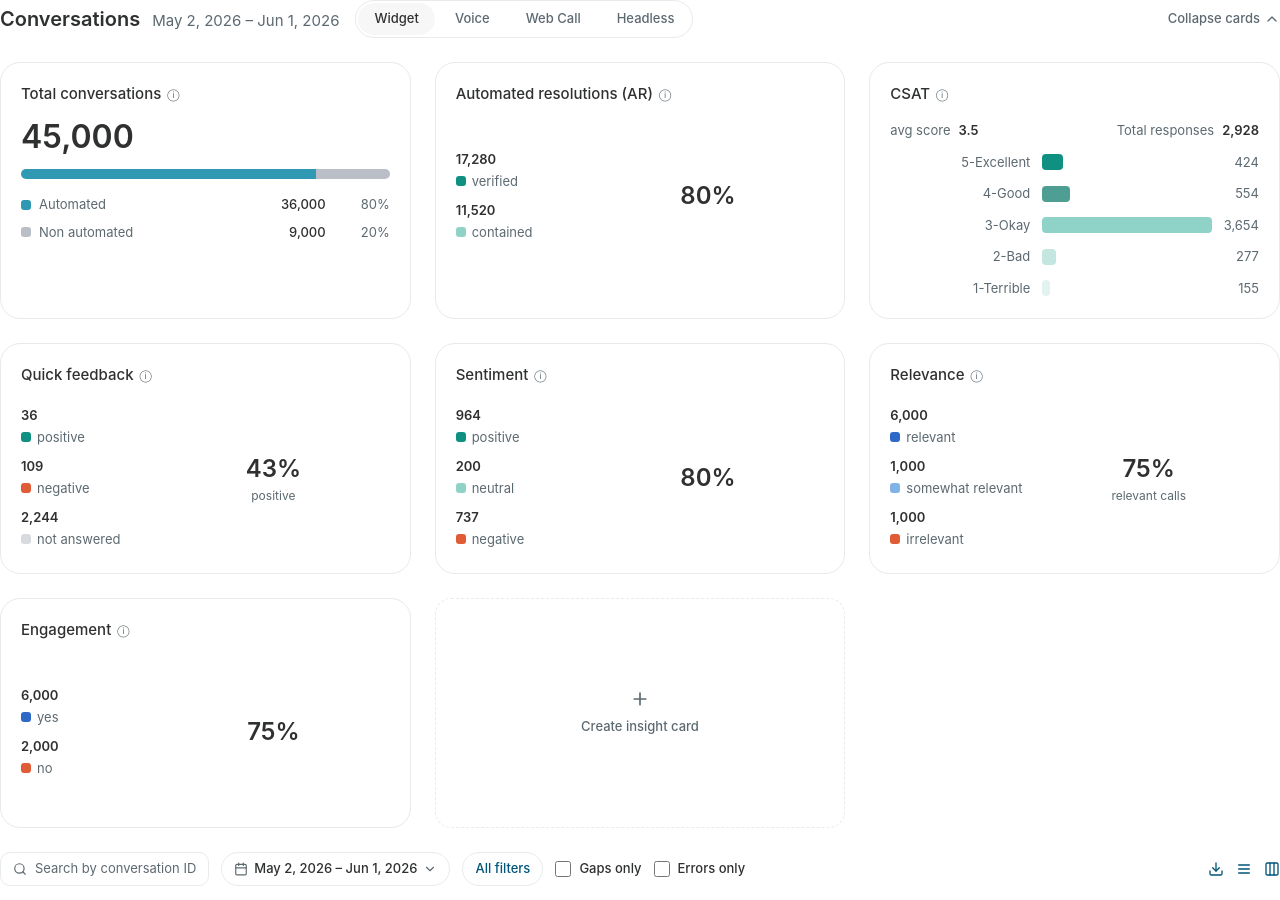
it: ConversationsView › filters the table to non-healthy rows when Errors only is checked
Click the checkbox labelled "Errors only" at point(662, 869), box [654,861,670,877]
(page scrolled)
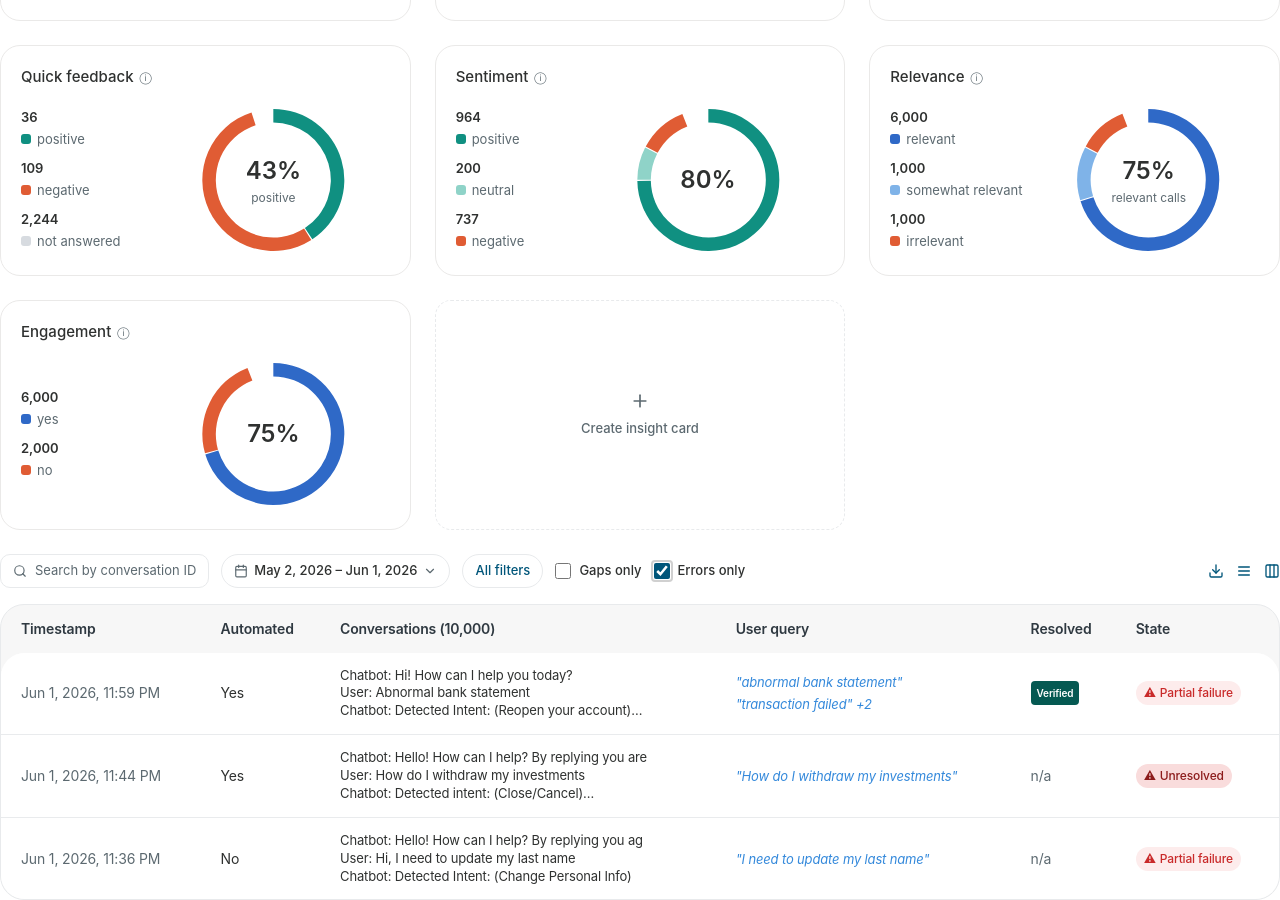
Expected: the text "Unresolved" is shown, [1160,768,1224,783]
Result: the text "Partial failure" is shown 2 times at [1136,681,1241,705]; [1136,847,1241,871]
